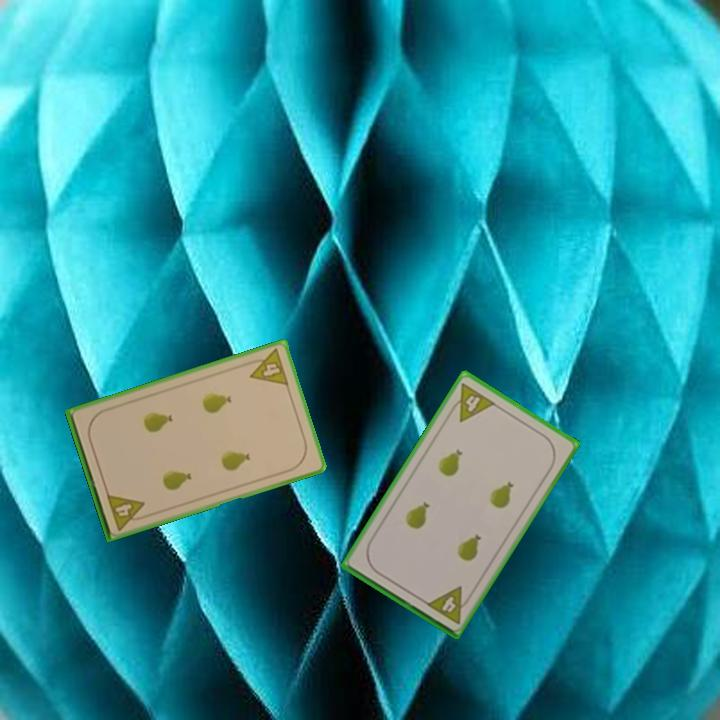4p: (445, 379, 498, 425), (422, 582, 475, 627), (243, 345, 291, 389), (103, 490, 150, 533)
